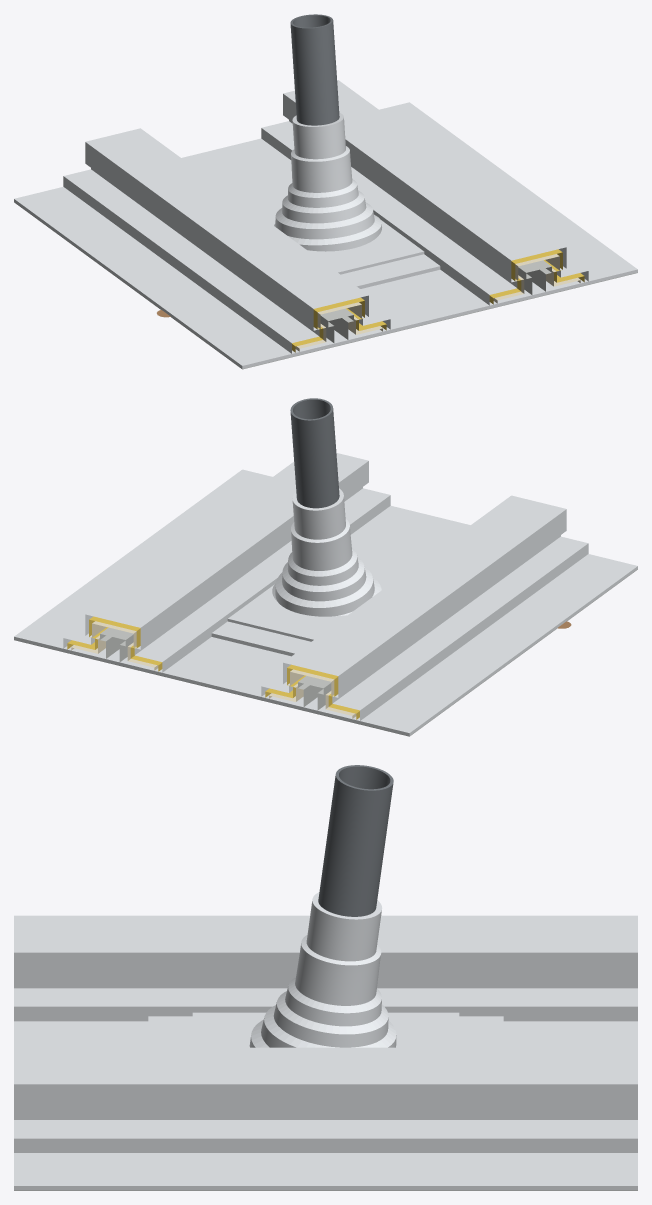
Rendered from pipe-boot-sseam-1p5in12-P-9-MP.glb.
3 renders of one model, top to bottom at view 1: azimuth 30°, elevation 25°; view 2: azimuth 150°, elevation 25°; view 3: azimuth 270°, elevation 25°, orthographic. The views are drawn at different scales.
Visible parts, largest first — view 1: topcoat__topcoat_field_all, topcoat__topcoat_rib_0, topcoat__topcoat_apron, topcoat__topcoat_rib_1, topcoat__topcoat_boot, existing__pipe, topcoat__topcoat_plate, flex__flex_rib_1, flex__flex_rib_0, existing__rib_0, existing__rib_1, primer__primer_rib_1_dn (+2 smaller); view 2: topcoat__topcoat_field_all, topcoat__topcoat_rib_0, topcoat__topcoat_rib_1, topcoat__topcoat_apron, topcoat__topcoat_boot, existing__pipe, topcoat__topcoat_plate, flex__flex_rib_1, flex__flex_rib_0, existing__rib_0, existing__rib_1, primer__primer_rib_1_up (+2 smaller); view 3: topcoat__topcoat_rib_1, topcoat__topcoat_rib_0, topcoat__topcoat_field_all, topcoat__topcoat_apron, topcoat__topcoat_boot, existing__pipe, topcoat__topcoat_plate, existing__panel.
Part boxes in pixels (box(x1,y1,x2,y2)): topcoat__topcoat_field_all: box(14, 102, 637, 368); topcoat__topcoat_rib_0: box(63, 128, 390, 353); topcoat__topcoat_apron: box(112, 117, 509, 313); topcoat__topcoat_rib_1: box(261, 80, 588, 305); topcoat__topcoat_boot: box(274, 112, 381, 251); existing__pipe: box(290, 14, 339, 125); topcoat__topcoat_plate: box(240, 189, 424, 274); flex__flex_rib_1: box(489, 249, 584, 304); flex__flex_rib_0: box(292, 297, 386, 352); existing__rib_0: box(320, 308, 353, 342); existing__rib_1: box(518, 260, 551, 294); primer__primer_rib_1_dn: box(493, 254, 580, 303); topcoat__topcoat_field_all: box(14, 469, 637, 736); topcoat__topcoat_rib_0: box(261, 495, 588, 720); topcoat__topcoat_rib_1: box(63, 453, 390, 672); topcoat__topcoat_apron: box(140, 483, 538, 675); topcoat__topcoat_boot: box(272, 488, 381, 616); existing__pipe: box(290, 398, 339, 508); topcoat__topcoat_plate: box(227, 555, 411, 641); flex__flex_rib_1: box(67, 616, 162, 671); flex__flex_rib_0: box(265, 664, 359, 719); existing__rib_0: box(298, 676, 331, 710); existing__rib_1: box(100, 627, 133, 661); primer__primer_rib_1_up: box(71, 621, 158, 670); topcoat__topcoat_rib_1: box(14, 1047, 637, 1152); topcoat__topcoat_rib_0: box(14, 915, 637, 1021); topcoat__topcoat_field_all: box(14, 1021, 637, 1190); topcoat__topcoat_apron: box(148, 915, 503, 1147); topcoat__topcoat_boot: box(249, 892, 396, 1047); existing__pipe: box(318, 765, 393, 916); topcoat__topcoat_plate: box(192, 1012, 459, 1047); existing__panel: box(14, 1190, 637, 1190).
Bounding box in the file's own units: 1.24 × 0.6133 × 1.22.
